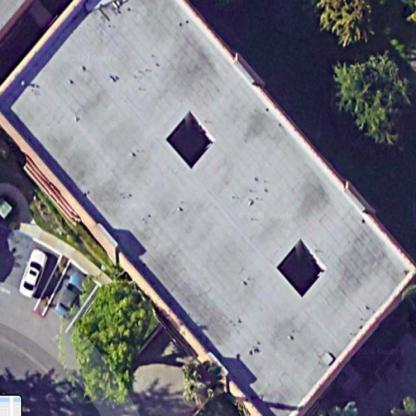car: (19, 241, 50, 307), (61, 259, 87, 324)
